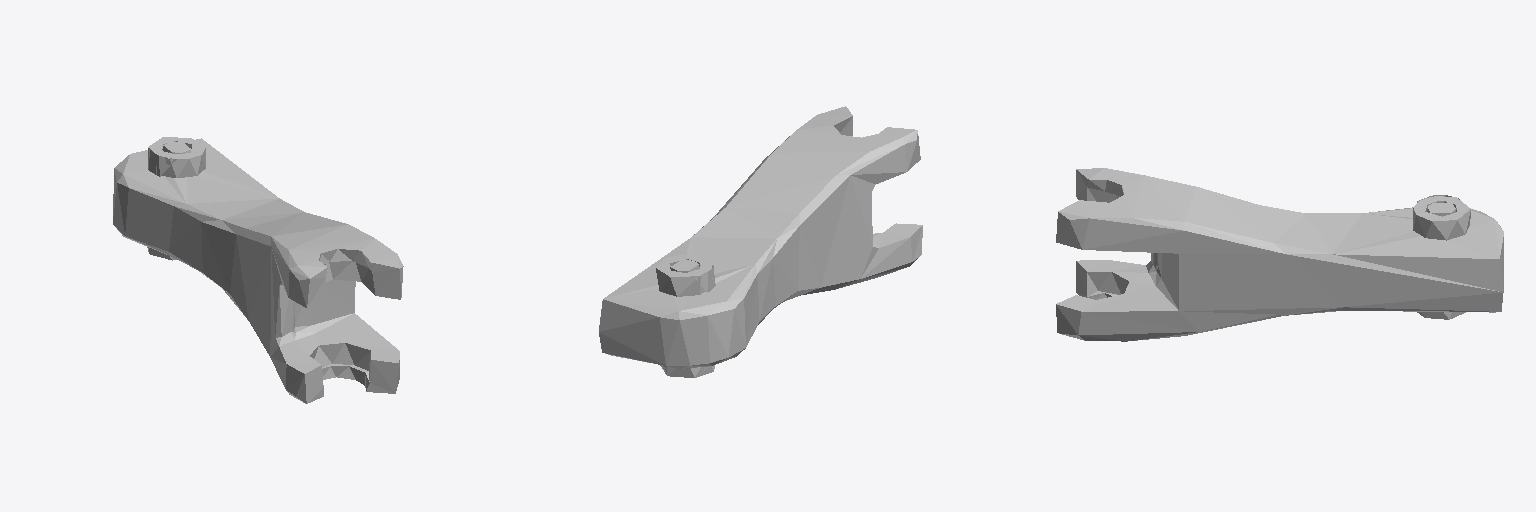
File: right_visual_middle_pp_mesh_mesh.obj
3 renders of one model, left to right at view 1: azimuth 30°, elevation 25°; view 2: azimuth 150°, elevation 25°; view 3: azimuth 270°, elevation 25°, orthographic.
Size of the model in its own units: 0.0178 by 0.0194 by 0.0602.